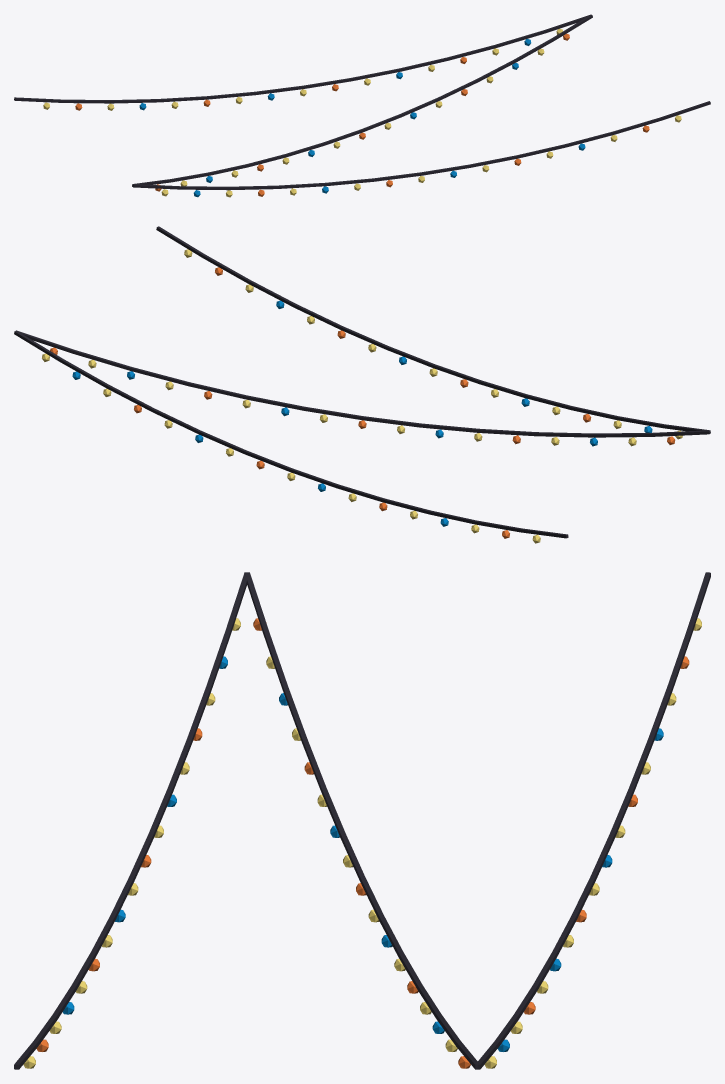
File: lights.glb
The picture shows the model from 3 angles, top to bottom: view 1: azimuth 30°, elevation 25°; view 2: azimuth 150°, elevation 25°; view 3: azimuth 270°, elevation 25°; orthographic projection. The views are drawn at different scales.
Bounding box in the file's own units: 9.12 × 0.6607 × 5.44.
